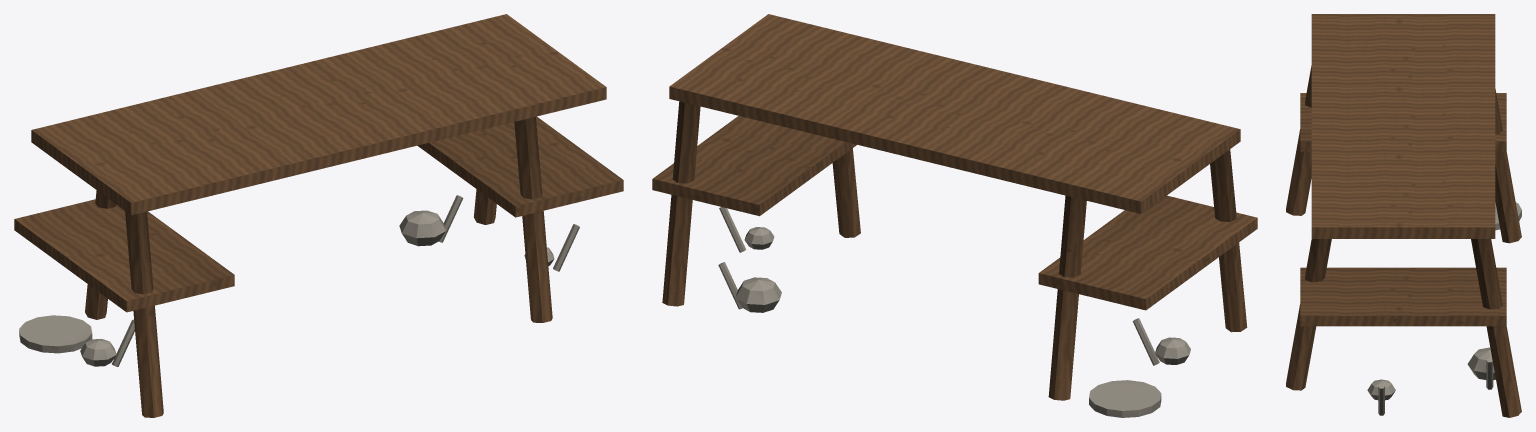
File: trestle_metal.glb
3 renders of one model, left to right at view 1: azimuth 30°, elevation 25°; view 2: azimuth 150°, elevation 25°; view 3: azimuth 270°, elevation 25°, orthographic. The views are drawn at different scales.
Visible parts, largest first — view 1: trestle_metal; view 2: trestle_metal; view 3: trestle_metal.
Part boxes in pixels (x1,y1,x2,y2): trestle_metal: (14, 14, 623, 417); trestle_metal: (652, 14, 1257, 417); trestle_metal: (1286, 14, 1521, 417).
Bounding box in the file's own units: 1.84 × 0.7442 × 0.8235.
2 materials, 1 textured.
